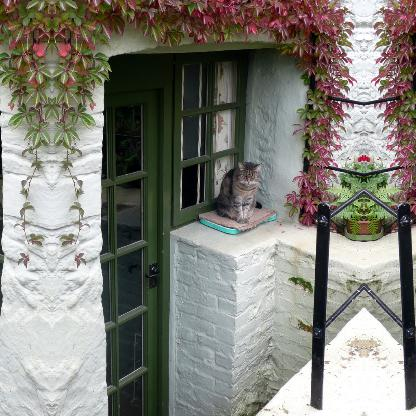Cat: (214, 160, 264, 224)
